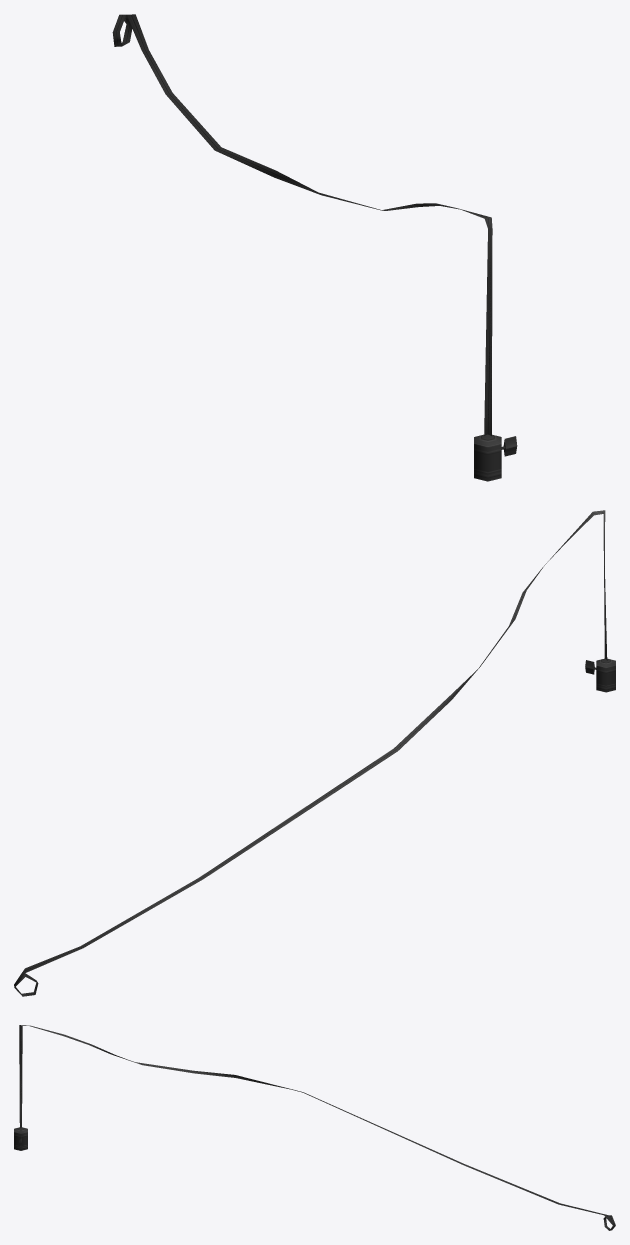
Rendered from jsf_4P_Light_s04_b.fbx.
3 views of the same model, one above another, from view 1: azimuth 30°, elevation 25°; view 2: azimuth 150°, elevation 25°; view 3: azimuth 270°, elevation 25° (orthographic). The views are drawn at different scales.
Parts seen in each view (by area): view 1: jsf_4P_Light_s04_b; view 2: jsf_4P_Light_s04_b; view 3: jsf_4P_Light_s04_b.
Part boxes in pixels (<box>): jsf_4P_Light_s04_b: <box>112,14,517,481</box>; jsf_4P_Light_s04_b: <box>14,510,615,996</box>; jsf_4P_Light_s04_b: <box>14,1025,615,1230</box>.
Bounding box in the file's own units: 29.86 × 34.58 × 124.
